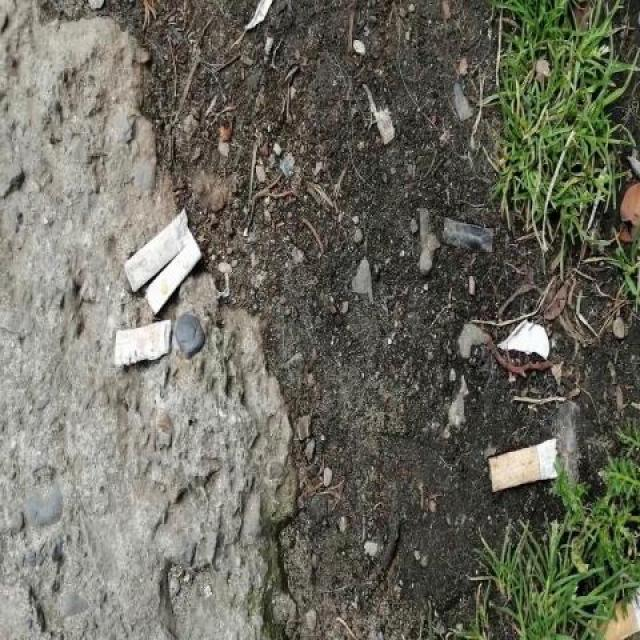non-organic waste: (121, 205, 192, 296), (481, 433, 563, 498), (144, 234, 204, 318), (110, 316, 177, 373)
